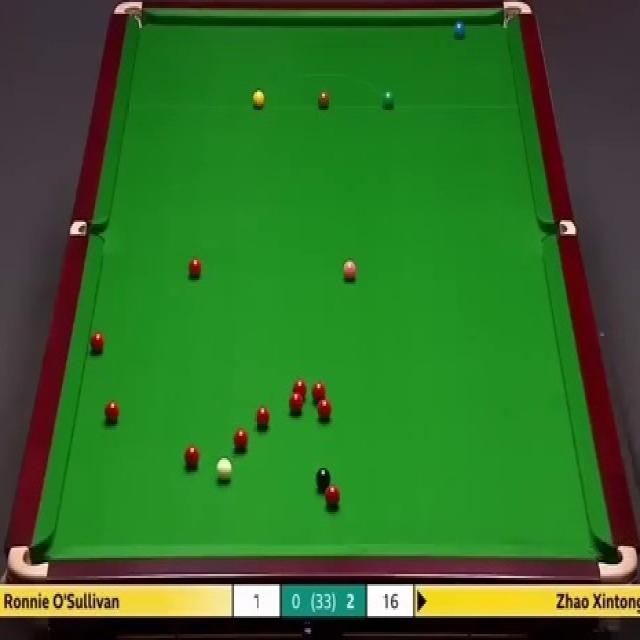black-ball: (316, 466, 334, 492)
blue-ball: (454, 20, 466, 42)
brown-ball: (317, 90, 330, 109)
green-ball: (381, 90, 394, 109)
pink-ball: (342, 259, 359, 283)
red-ball: (185, 443, 202, 472), (186, 257, 203, 285), (105, 398, 121, 424), (232, 429, 247, 455), (90, 333, 105, 358), (325, 485, 341, 508), (255, 404, 269, 428), (290, 394, 305, 415), (292, 378, 307, 399), (312, 381, 326, 403), (317, 397, 330, 418)
white-ball: (216, 458, 233, 484)
yellow-ball: (252, 90, 265, 109)
